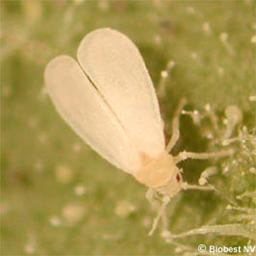whitefly: (43, 28, 227, 236)
